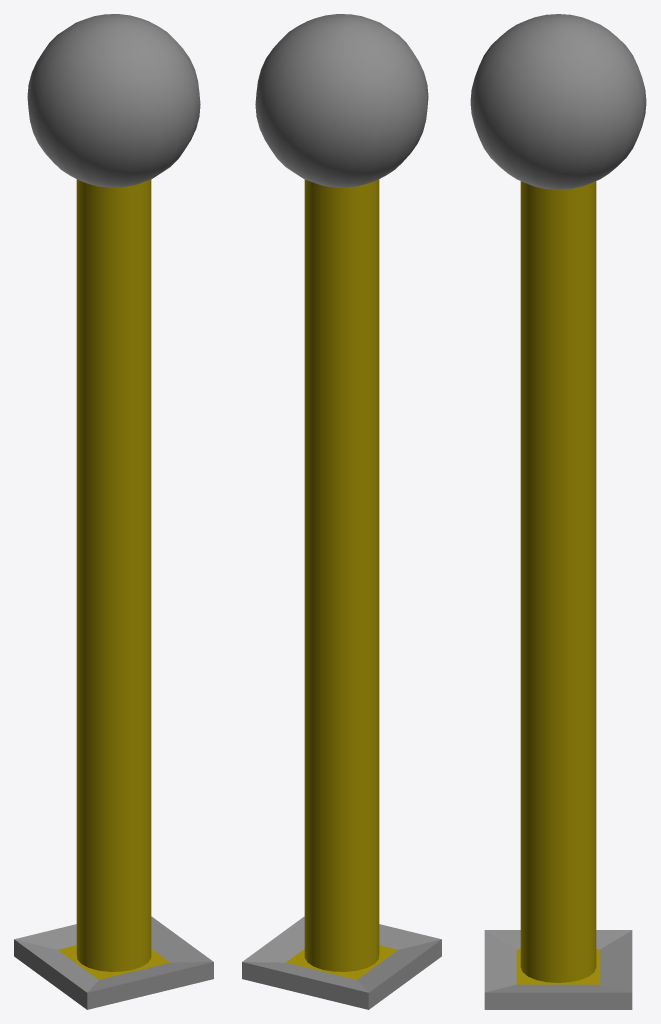
File: Rail.fbx
3 renders of one model, left to right at view 1: azimuth 30°, elevation 25°; view 2: azimuth 150°, elevation 25°; view 3: azimuth 270°, elevation 25°, orthographic.
Parts seen in each view (by area): view 1: pCube2; view 2: pCube2; view 3: pCube2.
Part boxes in pixels (left/top/right/bottom): pCube2: left=14, top=14, right=213, bottom=1009; pCube2: left=242, top=14, right=441, bottom=1009; pCube2: left=470, top=14, right=646, bottom=1009.
Size of the model in its own units: 1.19 by 7.14 by 1.19.
